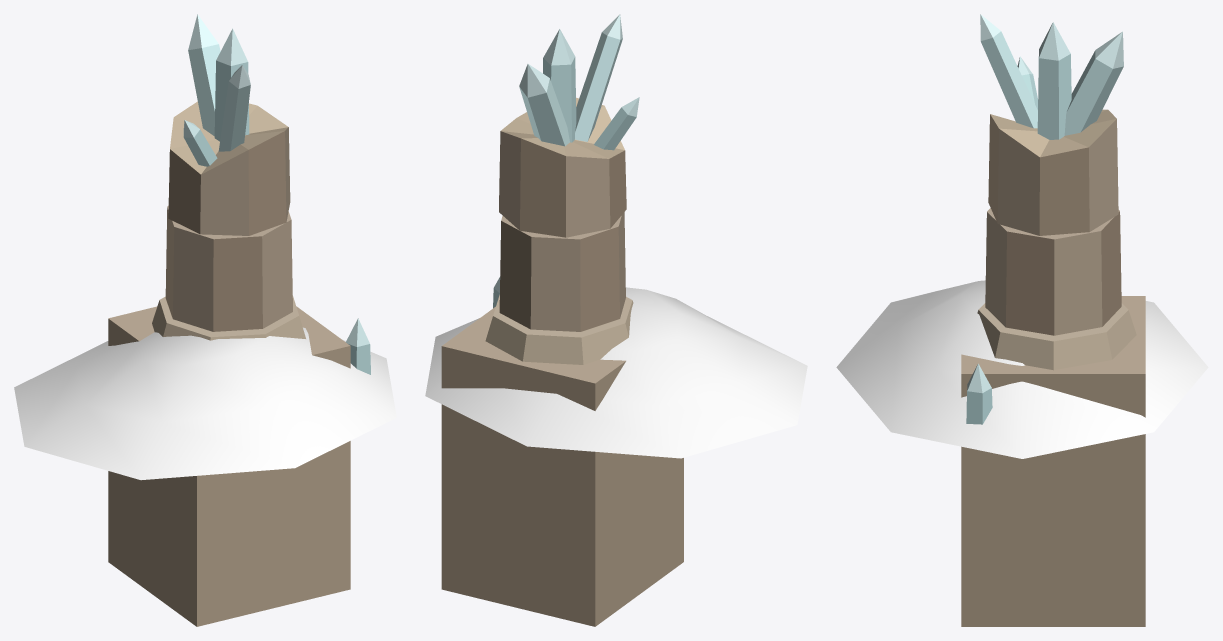
File: ruinas_columna_d_ligero.glb
3 views of the same model, side by side, from view 1: azimuth 30°, elevation 25°; view 2: azimuth 150°, elevation 25°; view 3: azimuth 270°, elevation 25° (orthographic). The views are drawn at different scales.
Parts seen in each view (by area): view 1: ruinas_columna_d, ruinas_columna_d_arena; view 2: ruinas_columna_d, ruinas_columna_d_arena; view 3: ruinas_columna_d, ruinas_columna_d_arena.
Part boxes in pixels (box(x1,y1,x2,y2)): ruinas_columna_d: box(108, 14, 370, 626); ruinas_columna_d_arena: box(14, 327, 396, 480); ruinas_columna_d: box(441, 14, 683, 626); ruinas_columna_d_arena: box(425, 287, 807, 458); ruinas_columna_d: box(961, 14, 1145, 626); ruinas_columna_d_arena: box(836, 280, 1208, 458).
Size of the model in its own units: 2.8 by 4.04 by 2.4.
